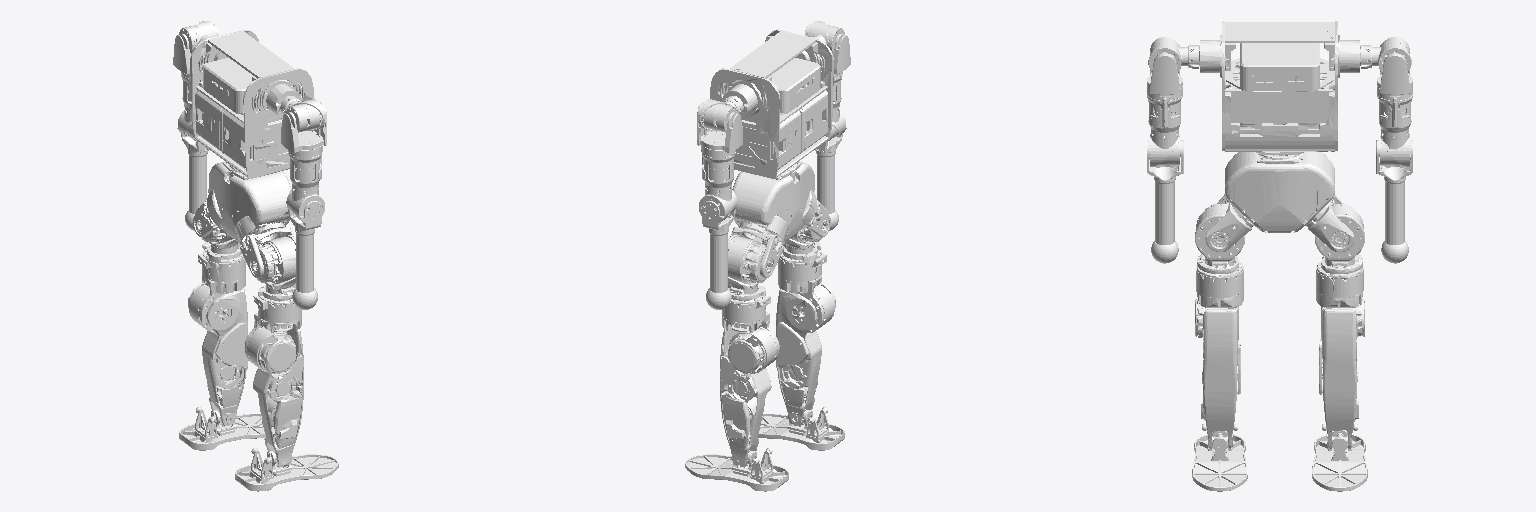
robot.urdf — biped_v3_full:
<?xml version="1.0" ?>
<!-- =================================================================================== -->
<!-- |    This document was autogenerated by xacro from [local-path]/workspace/kuavo-ros-control/src/humanoid-control/humanoid_interface_drake/models/biped_gen4.2/urdf/biped_v3_full.xacro | -->
<!-- |    EDITING THIS FILE BY HAND IS NOT RECOMMENDED                                 | -->
<!-- =================================================================================== -->
<robot name="biped_v3_full" xmlns:drake="https://drake.mit.edu">
  <link name="torso">
    <inertial>
      <origin xyz="-0.00125701 -0.00011621 0.07634255" rpy="0 0 0" />
      <mass value="9.20445692" />
      <inertia ixx="0.04387174" ixy="-1.165e-05" ixz="-2.045e-05" iyy="0.02873935" iyz="-0.00014024" izz="0.03498757" />
    </inertial>
    <visual>
      <origin xyz="0 0 0" rpy="0 0 0" />
      <geometry>
        <mesh filename="../../meshes/torso.STL" />
      </geometry>
      <material name="">
        <color rgba="1 1 1 1" />
      </material>
    </visual>
  </link>
  <link name="waist">
    <inertial>
      <origin xyz="0.00044512 0.00021941 -0.09828156" rpy="0 0 0" />
      <mass value="3.54871761" />
      <inertia ixx="0.01402915" ixy="5.86e-06" ixz="9.26e-06" iyy="0.00850232" iyz="7.03e-06" izz="0.0108444" />
    </inertial>
    <visual>
      <origin xyz="0 0 0" rpy="0 0 0" />
      <geometry>
        <mesh filename="../../meshes/waist.STL" />
      </geometry>
      <material name="">
        <color rgba="1 1 1 1" />
      </material>
    </visual>
  </link>
  <joint name="waist" type="fixed">
    <origin xyz="0 0 0" rpy="0 0 0" />
    <parent link="torso" />
    <child link="waist" />
    <axis xyz="0 0 1" />
    <limit lower="-2.0943951023932" upper="2.0943951023932" effort="50" velocity="8.37333333333333" />
  </joint>
  <link name="leg_l1_link">
    <inertial>
      <origin xyz="-0.00619745 -0.02691802 0.02588144" rpy="0 0 0" />
      <mass value="0.20744641" />
      <inertia ixx="0.00016479" ixy="-1.387e-05" ixz="1.379e-05" iyy="0.0003572" iyz="2.307e-05" izz="0.00036246" />
    </inertial>
    <visual>
      <origin xyz="0 0 0" rpy="0 0 0" />
      <geometry>
        <mesh filename="../../meshes/l_leg_pitch.STL" />
      </geometry>
      <material name="">
        <color rgba="1 1 1 1" />
      </material>
    </visual>
  </link>
  <joint name="leg_l1_joint" type="revolute">
    <origin xyz="0.0 0.10853553 -0.18853553" rpy="0 0 0" />
    <parent link="waist" />
    <child link="leg_l1_link" />
    <axis xyz="0 0.70711 -0.70711" />
    <limit lower="-2.0943951023932" upper="1.5707963267949" effort="180" velocity="23.55" />
  </joint>
  <transmission type="SimpleTransmission">
    <joint name="leg_l1_joint" />
    <actuator name="leg_l1_joint_motor" />
  </transmission>
  <link name="leg_l2_link">
    <inertial>
      <origin xyz="-0.00098722 0.00077479 -0.00862244" rpy="0 0 0" />
      <mass value="0.98810091" />
      <inertia ixx="0.00121545" ixy="-4.42e-06" ixz="4.324e-05" iyy="0.0012024" iyz="3.023e-05" izz="0.00087397" />
    </inertial>
    <visual>
      <origin xyz="0 0 0" rpy="0 0 0" />
      <geometry>
        <mesh filename="../../meshes/l_leg_roll.STL" />
      </geometry>
      <material name="">
        <color rgba="1 1 1 1" />
      </material>
    </visual>
  </link>
  <joint name="leg_l2_joint" type="revolute">
    <origin xyz="0.00100000000000005 0 0" rpy="0 0 0" />
    <parent link="leg_l1_link" />
    <child link="leg_l2_link" />
    <axis xyz="1 0 0" />
    <limit lower="-1.14668131856027" upper="0.872664625997165" effort="100" velocity="41.3433333333333" />
  </joint>
  <transmission type="SimpleTransmission">
    <joint name="leg_l2_joint" />
    <actuator name="leg_l2_joint_motor" />
  </transmission>
  <link name="leg_l3_link">
    <inertial>
      <origin xyz="-0.01036605 0.00124714 -0.13772711" rpy="0 0 0" />
      <mass value="1.70623945" />
      <inertia ixx="0.0045722" ixy="4.264e-05" ixz="-0.00075108" iyy="0.00491267" iyz="0.00016727" izz="0.00171576" />
    </inertial>
    <visual>
      <origin xyz="0 0 0" rpy="0 0 0" />
      <geometry>
        <mesh filename="../../meshes/l_leg_yaw.STL" />
      </geometry>
      <material name="">
        <color rgba="1 1 1 1" />
      </material>
    </visual>
  </link>
  <joint name="leg_l3_joint" type="revolute">
    <origin xyz="0 0 0" rpy="0 0 0" />
    <parent link="leg_l2_link" />
    <child link="leg_l3_link" />
    <axis xyz="0 0 1" />
    <limit lower="-0.818384886260141" upper="1.5707963267949" effort="100" velocity="41.3433333333333" />
  </joint>
  <transmission type="SimpleTransmission">
    <joint name="leg_l3_joint" />
    <actuator name="leg_l3_joint_motor" />
  </transmission>
  <link name="leg_l4_link">
    <inertial>
      <origin xyz="0.02455489 -0.00415947 -0.1003268" rpy="0 0 0" />
      <mass value="1.33885586" />
      <inertia ixx="0.00557083" ixy="-6.627e-05" ixz="-0.00019424" iyy="0.0057856" iyz="0.00036072" izz="0.00093401" />
    </inertial>
    <visual>
      <origin xyz="0 0 0" rpy="0 0 0" />
      <geometry>
        <mesh filename="../../meshes/l_knee.STL" />
      </geometry>
      <material name="">
        <color rgba="1 1 1 1" />
      </material>
    </visual>
  </link>
  <joint name="leg_l4_joint" type="revolute">
    <origin xyz="-0.0219999999999992 0 -0.183499999999999" rpy="0 0 0" />
    <parent link="leg_l3_link" />
    <child link="leg_l4_link" />
    <axis xyz="0 1 0" />
    <limit lower="0.0" upper="2.61799387799149" effort="180" velocity="23.55" />
  </joint>
  <transmission type="SimpleTransmission">
    <joint name="leg_l4_joint" />
    <actuator name="leg_l4_joint_motor" />
  </transmission>
  <link name="leg_l5_link">
    <inertial>
      <origin xyz="0.0 0.0 0.0" rpy="0 0 0" />
      <mass value="0.07193524" />
      <inertia ixx="6.92e-06" ixy="0.0" ixz="0.0" iyy="6.92e-06" iyz="0.0" izz="1.218e-05" />
    </inertial>
    <visual>
      <origin xyz="0 0 0" rpy="0 0 0" />
      <geometry>
        <mesh filename="../../meshes/l_foot_pitch.STL" />
      </geometry>
      <material name="">
        <color rgba="1 1 1 1" />
      </material>
    </visual>
  </link>
  <joint name="leg_l5_joint" type="revolute">
    <origin xyz="0.0210000000000002 0 -0.234999999999996" rpy="0 0 0" />
    <parent link="leg_l4_link" />
    <child link="leg_l5_link" />
    <axis xyz="0 1 0" />
    <limit lower="-0.872664625997165" upper="0.523598775598299" effort="36" velocity="23.0266666666667" />
  </joint>
  <transmission type="SimpleTransmission">
    <joint name="leg_l5_joint" />
    <actuator name="leg_l5_joint_motor" />
  </transmission>
  <link name="leg_l6_link">
    <inertial>
      <origin xyz="-0.00773988 0.0 -0.02559918" rpy="0 0 0" />
      <mass value="0.31286939" />
      <inertia ixx="0.00016784" ixy="0.0" ixz="8.528e-05" iyy="0.00066357" iyz="0.0" izz="0.00067873" />
    </inertial>
    <visual>
      <origin xyz="0 0 0" rpy="0 0 0" />
      <geometry>
        <mesh filename="../../meshes/l_foot_roll_big.STL" />
      </geometry>
      <material name="">
        <color rgba="1 1 1 1" />
      </material>
    </visual>
  </link>
  <joint name="leg_l6_joint" type="revolute">
    <origin xyz="0 0 0" rpy="0 0 0" />
    <parent link="leg_l5_link" />
    <child link="leg_l6_link" />
    <axis xyz="1 0 0" />
    <limit lower="-0.261799387799149" upper="0.261799387799149" effort="36" velocity="23.0266666666667" />
  </joint>
  <transmission type="SimpleTransmission">
    <joint name="leg_l6_joint" />
    <actuator name="leg_l6_joint_motor" />
  </transmission>
  <!-- sssssssss -->
  <frame link="leg_l6_link" name="l_foot_sole" xyz="0.0185 0.0 -0.0435"/>
  <frame link="leg_l6_link" name="l_foot_toe" xyz="0.126 0.0 -0.0435"/>
  <frame link="leg_l6_link" name="l_foot_heel" xyz="-0.089 0.0 -0.0435"/>
  <link name="leg_r1_link">
    <inertial>
      <origin xyz="-0.00619607 0.02691963 0.02587995" rpy="0 0 0" />
      <mass value="0.20744688" />
      <inertia ixx="0.00016477" ixy="1.385e-05" ixz="1.38e-05" iyy="0.00035721" iyz="-2.306e-05" izz="0.00036244" />
    </inertial>
    <visual>
      <origin xyz="0 0 0" rpy="0 0 0" />
      <geometry>
        <mesh filename="../../meshes/r_leg_pitch.STL" />
      </geometry>
      <material name="">
        <color rgba="1 1 1 1" />
      </material>
    </visual>
  </link>
  <joint name="leg_r1_joint" type="revolute">
    <origin xyz="0.0 -0.10853553 -0.18853553" rpy="0 0 0" />
    <parent link="waist" />
    <child link="leg_r1_link" />
    <axis xyz="0 -0.70711 -0.70711" />
    <limit lower="-1.5707963267949" upper="2.0943951023932" effort="180" velocity="23.55" />
  </joint>
  <transmission type="SimpleTransmission">
    <joint name="leg_r1_joint" />
    <actuator name="leg_r1_joint_motor" />
  </transmission>
  <link name="leg_r2_link">
    <inertial>
      <origin xyz="-0.00091758 -0.00072548 -0.00869132" rpy="0 0 0" />
      <mass value="0.98808814" />
      <inertia ixx="0.00121433" ixy="5.41e-06" ixz="4.213e-05" iyy="0.0011961" iyz="-2.86e-05" izz="0.0008713" />
    </inertial>
    <visual>
      <origin xyz="0 0 0" rpy="0 0 0" />
      <geometry>
        <mesh filename="../../meshes/r_leg_roll.STL" />
      </geometry>
      <material name="">
        <color rgba="1 1 1 1" />
      </material>
    </visual>
  </link>
  <joint name="leg_r2_joint" type="revolute">
    <origin xyz="0.001 0 0" rpy="0 0 0" />
    <parent link="leg_r1_link" />
    <child link="leg_r2_link" />
    <axis xyz="1 0 0" />
    <limit lower="-0.872664625997165" upper="1.14668131856027" effort="100" velocity="41.3433333333333" />
  </joint>
  <transmission type="SimpleTransmission">
    <joint name="leg_r2_joint" />
    <actuator name="leg_r2_joint_motor" />
  </transmission>
  <link name="leg_r3_link">
    <inertial>
      <origin xyz="-0.01040262 -0.00122173 -0.13769028" rpy="0 0 0" />
      <mass value="1.70622839" />
      <inertia ixx="0.00457655" ixy="-4.152e-05" ixz="-0.00075285" iyy="0.00491455" iyz="-0.00016988" izz="0.001716" />
    </inertial>
    <visual>
      <origin xyz="0 0 0" rpy="0 0 0" />
      <geometry>
        <mesh filename="../../meshes/r_leg_yaw.STL" />
      </geometry>
      <material name="">
        <color rgba="1 1 1 1" />
      </material>
    </visual>
  </link>
  <joint name="leg_r3_joint" type="revolute">
    <origin xyz="0 0 0" rpy="0 0 0" />
    <parent link="leg_r2_link" />
    <child link="leg_r3_link" />
    <axis xyz="0 0 1" />
    <limit lower="-1.5707963267949" upper="0.818384886260141" effort="100" velocity="41.3433333333333" />
  </joint>
  <transmission type="SimpleTransmission">
    <joint name="leg_r3_joint" />
    <actuator name="leg_r3_joint_motor" />
  </transmission>
  <link name="leg_r4_link">
    <inertial>
      <origin xyz="0.02457018 0.00415925 -0.10028559" rpy="0 0 0" />
      <mass value="1.33884142" />
      <inertia ixx="0.00556089" ixy="6.661e-05" ixz="-0.00019274" iyy="0.00577497" iyz="-0.00036076" izz="0.00093328" />
    </inertial>
    <visual>
      <origin xyz="0 0 0" rpy="0 0 0" />
      <geometry>
        <mesh filename="../../meshes/r_knee.STL" />
      </geometry>
      <material name="">
        <color rgba="1 1 1 1" />
      </material>
    </visual>
  </link>
  <joint name="leg_r4_joint" type="revolute">
    <origin xyz="-0.022 0 -0.1835" rpy="0 0 0" />
    <parent link="leg_r3_link" />
    <child link="leg_r4_link" />
    <axis xyz="0 1 0" />
    <limit lower="0.0" upper="2.61799387799149" effort="180" velocity="23.55" />
  </joint>
  <transmission type="SimpleTransmission">
    <joint name="leg_r4_joint" />
    <actuator name="leg_r4_joint_motor" />
  </transmission>
  <link name="leg_r5_link">
    <inertial>
      <origin xyz="0.0 0.0 0.0" rpy="0 0 0" />
      <mass value="0.07193524" />
      <inertia ixx="6.92e-06" ixy="0.0" ixz="0.0" iyy="6.92e-06" iyz="0.0" izz="1.218e-05" />
    </inertial>
    <visual>
      <origin xyz="0 0 0" rpy="0 0 0" />
      <geometry>
        <mesh filename="../../meshes/r_foot_pitch.STL" />
      </geometry>
      <material name="">
        <color rgba="1 1 1 1" />
      </material>
    </visual>
  </link>
  <joint name="leg_r5_joint" type="revolute">
    <origin xyz="0.021 0 -0.235" rpy="0 0 0" />
    <parent link="leg_r4_link" />
    <child link="leg_r5_link" />
    <axis xyz="0 1 0" />
    <limit lower="-0.872664625997165" upper="0.523598775598299" effort="36" velocity="23.0266666666667" />
  </joint>
  <transmission type="SimpleTransmission">
    <joint name="leg_r5_joint" />
    <actuator name="leg_r5_joint_motor" />
  </transmission>
  <link name="leg_r6_link">
    <inertial>
      <origin xyz="-0.00773988 0.0 -0.02559918" rpy="0 0 0" />
      <mass value="0.31286939" />
      <inertia ixx="0.00016784" ixy="0.0" ixz="8.528e-05" iyy="0.00066357" iyz="0.0" izz="0.00067873" />
    </inertial>
    <visual>
      <origin xyz="0 0 0" rpy="0 0 0" />
      <geometry>
        <mesh filename="../../meshes/r_foot_roll_big.STL" />
      </geometry>
      <material name="">
        <color rgba="1 1 1 1" />
      </material>
    </visual>
  </link>
  <joint name="leg_r6_joint" type="revolute">
    <origin xyz="0 0 0" rpy="0 0 0" />
    <parent link="leg_r5_link" />
    <child link="leg_r6_link" />
    <axis xyz="1 0 0" />
    <limit lower="-0.261799387799149" upper="0.261799387799149" effort="36" velocity="23.0266666666667" />
  </joint>
  <transmission type="SimpleTransmission">
    <joint name="leg_r6_joint" />
    <actuator name="leg_r6_joint_motor" />
  </transmission>
  <!-- sssssssss -->
  <frame link="leg_r6_link" name="r_foot_sole" xyz="0.0185 0.0 -0.0435"/>
  <frame link="leg_r6_link" name="r_foot_toe" xyz="0.126 0.0 -0.0435"/>
  <frame link="leg_r6_link" name="r_foot_heel" xyz="-0.089 0.0 -0.0435"/>
  <!-- =========================================================== Arms ================================================================= -->
  <link name="zarm_l1_link">
    <inertial>
      <origin xyz="0.0039 -0.00971 3e-05" rpy="0 0 0" />
      <mass value="0.2" />
      <inertia ixx="0.00014" ixy="-1e-05" ixz="0.0" iyy="9e-05" iyz="0.0" izz="0.00015" />
    </inertial>
    <visual>
      <origin xyz="0 0 0" rpy="0 0 0" />
      <geometry>
        <mesh filename="../../meshes/l_arm_pitch.STL" />
      </geometry>
      <material name="">
        <color rgba="1 1 1 1" />
      </material>
    </visual>
  </link>
  <joint name="zarm_l1_joint" type="revolute">
    <origin xyz="0.0 0.2085 0.16" rpy="0 0 0" />
    <parent link="torso" />
    <child link="zarm_l1_link" />
    <axis xyz="0 1 0" />
    <limit lower="-3.14159265358979" upper="2.0943951023932" effort="12" velocity="7.32666666666667" />
  </joint>
  <transmission type="SimpleTransmission">
    <joint name="zarm_l1_joint" />
    <actuator name="zarm_l1_joint_motor" />
  </transmission>
  <link name="zarm_l2_link">
    <inertial>
      <origin xyz="0.00166 0.0 -0.03622" rpy="0 0 0" />
      <mass value="0.16" />
      <inertia ixx="0.00012" ixy="0.0" ixz="-2e-05" iyy="0.00022" iyz="0.0" izz="0.00017" />
    </inertial>
    <visual>
      <origin xyz="0 0 0" rpy="0 0 0" />
      <geometry>
        <mesh filename="../../meshes/l_arm_roll.STL" />
      </geometry>
      <material name="">
        <color rgba="1 1 1 1" />
      </material>
    </visual>
  </link>
  <joint name="zarm_l2_joint" type="revolute">
    <origin xyz="0 0 0" rpy="0 0 0" />
    <parent link="zarm_l1_link" />
    <child link="zarm_l2_link" />
    <axis xyz="1 0 0" />
    <limit lower="-0.349065850398866" upper="3.49065850398866" effort="12" velocity="7.32666666666667" />
  </joint>
  <transmission type="SimpleTransmission">
    <joint name="zarm_l2_joint" />
    <actuator name="zarm_l2_joint_motor" />
  </transmission>
  <link name="zarm_l3_link">
    <inertial>
      <origin xyz="0.00056 0.00162 -0.13553" rpy="0 0 0" />
      <mass value="0.688" />
      <inertia ixx="0.00173" ixy="0.0" ixz="-2e-05" iyy="0.00173" iyz="6e-05" izz="0.00035" />
    </inertial>
    <visual>
      <origin xyz="0 0 0" rpy="0 0 0" />
      <geometry>
        <mesh filename="../../meshes/l_arm_yaw.STL" />
      </geometry>
      <material name="">
        <color rgba="1 1 1 1" />
      </material>
    </visual>
  </link>
  <joint name="zarm_l3_joint" type="revolute">
    <origin xyz="0 0 0" rpy="0 0 0" />
    <parent link="zarm_l2_link" />
    <child link="zarm_l3_link" />
    <axis xyz="0 0 1" />
    <limit lower="-1.5707963267949" upper="1.5707963267949" effort="12" velocity="7.32666666666667" />
  </joint>
  <transmission type="SimpleTransmission">
    <joint name="zarm_l3_joint" />
    <actuator name="zarm_l3_joint_motor" />
  </transmission>
  <link name="zarm_l4_link">
    <inertial>
      <origin xyz="-0.00012 0.00037 -0.12664" rpy="0 0 0" />
      <mass value="0.175" />
      <inertia ixx="0.00105" ixy="0.0" ixz="0.0" iyy="0.00102" iyz="-1e-05" izz="8e-05" />
    </inertial>
    <visual>
      <origin xyz="0 0 0" rpy="0 0 0" />
      <geometry>
        <mesh filename="../../meshes/l_forearm.STL" />
      </geometry>
      <material name="">
        <color rgba="1 1 1 1" />
      </material>
    </visual>
  </link>
  <joint name="zarm_l4_joint" type="revolute">
    <origin xyz="0 0 -0.188" rpy="0 0 0" />
    <parent link="zarm_l3_link" />
    <child link="zarm_l4_link" />
    <axis xyz="0 1 0" />
    <limit lower="-2.26892802759263" upper="0.0" effort="12" velocity="7.32666666666667" />
  </joint>
  <transmission type="SimpleTransmission">
    <joint name="zarm_l4_joint" />
    <actuator name="zarm_l4_joint_motor" />
  </transmission>
  <!-- right arm -->
  <link name="zarm_r1_link">
    <inertial>
      <origin xyz="0.0039 0.00971 3e-05" rpy="0 0 0" />
      <mass value="0.2" />
      <inertia ixx="0.00014" ixy="1e-05" ixz="0.0" iyy="9e-05" iyz="0.0" izz="0.00015" />
    </inertial>
    <visual>
      <origin xyz="0 0 0" rpy="0 0 0" />
      <geometry>
        <mesh filename="../../meshes/r_arm_pitch.STL" />
      </geometry>
      <material name="">
        <color rgba="1 1 1 1" />
      </material>
    </visual>
  </link>
  <joint name="zarm_r1_joint" type="revolute">
    <origin xyz="0.0 -0.2085 0.16" rpy="0 0 0" />
    <parent link="torso" />
    <child link="zarm_r1_link" />
    <axis xyz="0 1 0" />
    <limit lower="-3.14159265358979" upper="2.0943951023932" effort="12" velocity="7.32666666666667" />
  </joint>
  <transmission type="SimpleTransmission">
    <joint name="zarm_r1_joint" />
    <actuator name="zarm_r1_joint_motor" />
  </transmission>
  <link name="zarm_r2_link">
    <inertial>
      <origin xyz="0.00166 0.0 -0.03622" rpy="0 0 0" />
      <mass value="0.16" />
      <inertia ixx="0.00012" ixy="0.0" ixz="-2e-05" iyy="0.00022" iyz="0.0" izz="0.00017" />
    </inertial>
    <visual>
      <origin xyz="0 0 0" rpy="0 0 0" />
      <geometry>
        <mesh filename="../../meshes/r_arm_roll.STL" />
      </geometry>
      <material name="">
        <color rgba="1 1 1 1" />
      </material>
    </visual>
  </link>
  <joint name="zarm_r2_joint" type="revolute">
    <origin xyz="0 0 0" rpy="0 0 0" />
    <parent link="zarm_r1_link" />
    <child link="zarm_r2_link" />
    <axis xyz="1 0 0" />
    <limit lower="-3.49065850398866" upper="0.349065850398866" effort="12" velocity="7.32666666666667" />
  </joint>
  <transmission type="SimpleTransmission">
    <joint name="zarm_r2_joint" />
    <actuator name="zarm_r2_joint_motor" />
  </transmission>
  <link name="zarm_r3_link">
    <inertial>
      <origin xyz="0.00056 -0.00162 -0.13553" rpy="0 0 0" />
      <mass value="0.688" />
      <inertia ixx="0.00175" ixy="0.0" ixz="-2e-05" iyy="0.00175" iyz="-6e-05" izz="0.00035" />
    </inertial>
    <visual>
      <origin xyz="0 0 0" rpy="0 0 0" />
      <geometry>
        <mesh filename="../../meshes/r_arm_yaw.STL" />
      </geometry>
      <material name="">
        <color rgba="1 1 1 1" />
      </material>
    </visual>
  </link>
  <joint name="zarm_r3_joint" type="revolute">
    <origin xyz="0 0 0" rpy="0 0 0" />
    <parent link="zarm_r2_link" />
    <child link="zarm_r3_link" />
    <axis xyz="0 0 1" />
    <limit lower="-1.5707963267949" upper="1.5707963267949" effort="12" velocity="7.32666666666667" />
  </joint>
  <transmission type="SimpleTransmission">
    <joint name="zarm_r3_joint" />
    <actuator name="zarm_r3_joint_motor" />
  </transmission>
  <link name="zarm_r4_link">
    <inertial>
      <origin xyz="-0.00012 -0.00037 -0.12664" rpy="0 0 0" />
      <mass value="0.175" />
      <inertia ixx="0.00105" ixy="0.0" ixz="0.0" iyy="0.00102" iyz="1e-05" izz="8e-05" />
    </inertial>
    <visual>
      <origin xyz="0 0 0" rpy="0 0 0" />
      <geometry>
        <mesh filename="../../meshes/r_forearm.STL" />
      </geometry>
      <material name="">
        <color rgba="1 1 1 1" />
      </material>
    </visual>
  </link>
  <joint name="zarm_r4_joint" type="revolute">
    <origin xyz="0 0 -0.188" rpy="0 0 0" />
    <parent link="zarm_r3_link" />
    <child link="zarm_r4_link" />
    <axis xyz="0 1 0" />
    <limit lower="-2.26892802759263" upper="0.0" effort="12" velocity="7.32666666666667" />
  </joint>
  <transmission type="SimpleTransmission">
    <joint name="zarm_r4_joint" />
    <actuator name="zarm_r4_joint_motor" />
  </transmission>
  <!-- end frame -->
  <!-- <frame link="l_hand_pitch" name="l_hand_sole" xyz="0 0 -0.1" /> -->
  <!-- end frame -->
  <!-- <frame link="r_hand_pitch" name="r_hand_sole" xyz="0 0 -0.1" /> -->
</robot>

--- Render facts (derived) ---
3 views of the same robot in one strip: view 1: azimuth 30°, elevation 25°; view 2: azimuth 150°, elevation 25°; view 3: azimuth 270°, elevation 25° (orthographic).
Model biped_v3_full with 22 links and 21 joints (20 revolute, 1 fixed), rooted at torso, posed every joint at zero.
Visible links, largest first — view 1: torso, waist, leg_l4_link, leg_r4_link, leg_r3_link, leg_l3_link, leg_r6_link, leg_l6_link, zarm_r4_link, leg_r2_link, zarm_r3_link, zarm_l4_link (+7 smaller); view 2: torso, waist, leg_r4_link, leg_l4_link, leg_l3_link, leg_r3_link, leg_l6_link, leg_r6_link, zarm_l4_link, leg_l2_link, zarm_l3_link, zarm_r4_link (+7 smaller); view 3: torso, waist, leg_l4_link, leg_r4_link, leg_l6_link, leg_r6_link, zarm_l4_link, zarm_r4_link, zarm_l3_link, zarm_r3_link, leg_r3_link, leg_l3_link (+8 smaller).
Link boxes in pixels (x1,y1,x2,y2): torso: (190, 30, 313, 178); waist: (207, 162, 291, 242); leg_l4_link: (202, 288, 248, 425); leg_r4_link: (253, 329, 303, 467); leg_r3_link: (245, 285, 301, 373); leg_l3_link: (188, 245, 245, 332); leg_r6_link: (235, 448, 338, 491); leg_l6_link: (179, 407, 265, 450); zarm_r4_link: (288, 201, 321, 309); leg_r2_link: (251, 235, 295, 300); zarm_r3_link: (286, 145, 324, 222); zarm_l4_link: (181, 133, 208, 230); torso: (710, 29, 833, 178); waist: (732, 162, 816, 243); leg_r4_link: (776, 289, 821, 425); leg_l4_link: (720, 329, 771, 466); leg_l3_link: (722, 285, 779, 373); leg_r3_link: (778, 244, 835, 332); leg_l6_link: (685, 448, 788, 491); leg_r6_link: (758, 407, 844, 450); zarm_l4_link: (702, 201, 735, 309); leg_l2_link: (728, 235, 773, 300); zarm_l3_link: (699, 145, 737, 222); zarm_r4_link: (815, 133, 842, 230); torso: (1199, 21, 1360, 155); waist: (1225, 152, 1334, 232); leg_l4_link: (1319, 306, 1358, 448); leg_r4_link: (1201, 307, 1240, 448); leg_l6_link: (1312, 424, 1367, 491); leg_r6_link: (1192, 424, 1247, 491); zarm_l4_link: (1376, 140, 1412, 263); zarm_r4_link: (1147, 140, 1183, 263); zarm_l3_link: (1377, 86, 1412, 166); zarm_r3_link: (1147, 86, 1182, 166); leg_r3_link: (1195, 256, 1243, 337); leg_l3_link: (1316, 256, 1364, 337).
Size in the robot's own frame: 0.215 by 0.4829 by 0.8605 metres.
22 mesh visuals loaded from 22 distinct referenced files (22 binary STL).